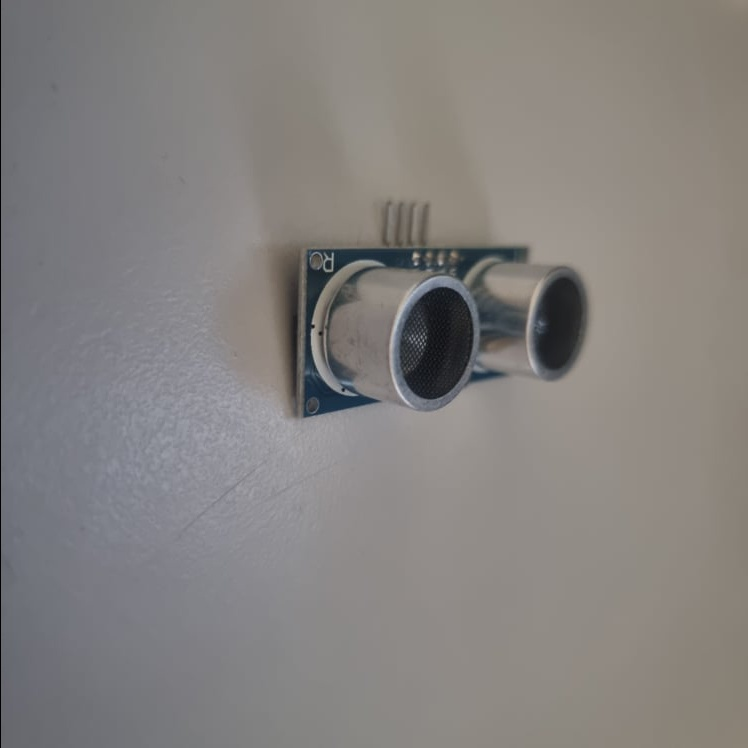SENSOR: (295, 238, 590, 421)
